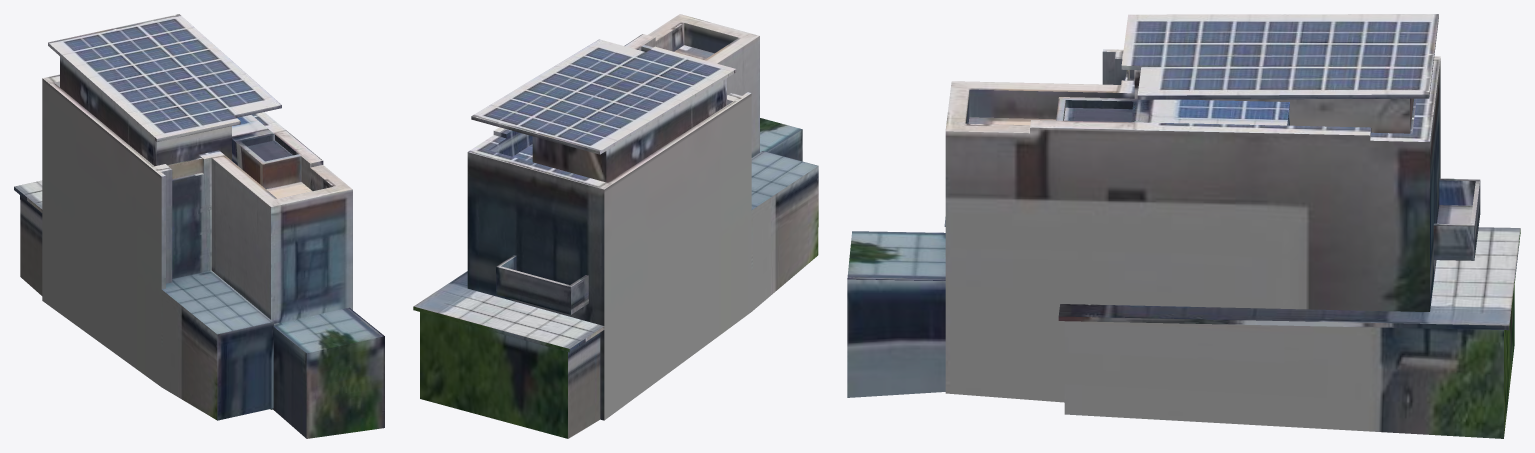
3 views of the same model, side by side, from view 1: azimuth 30°, elevation 25°; view 2: azimuth 150°, elevation 25°; view 3: azimuth 270°, elevation 25° (orthographic). The views are drawn at different scales.
Visible parts, largest first — view 1: B285484034001062A0; view 2: B285484034001062A0; view 3: B285484034001062A0.
Boxes of the visible parts, x1,y1,x2,y2 form: B285484034001062A0: [14, 14, 384, 438]; B285484034001062A0: [413, 14, 818, 438]; B285484034001062A0: [847, 14, 1520, 438].
Size of the model in its own units: 7.95 by 11.33 by 20.73.
1 material, 1 textured.
